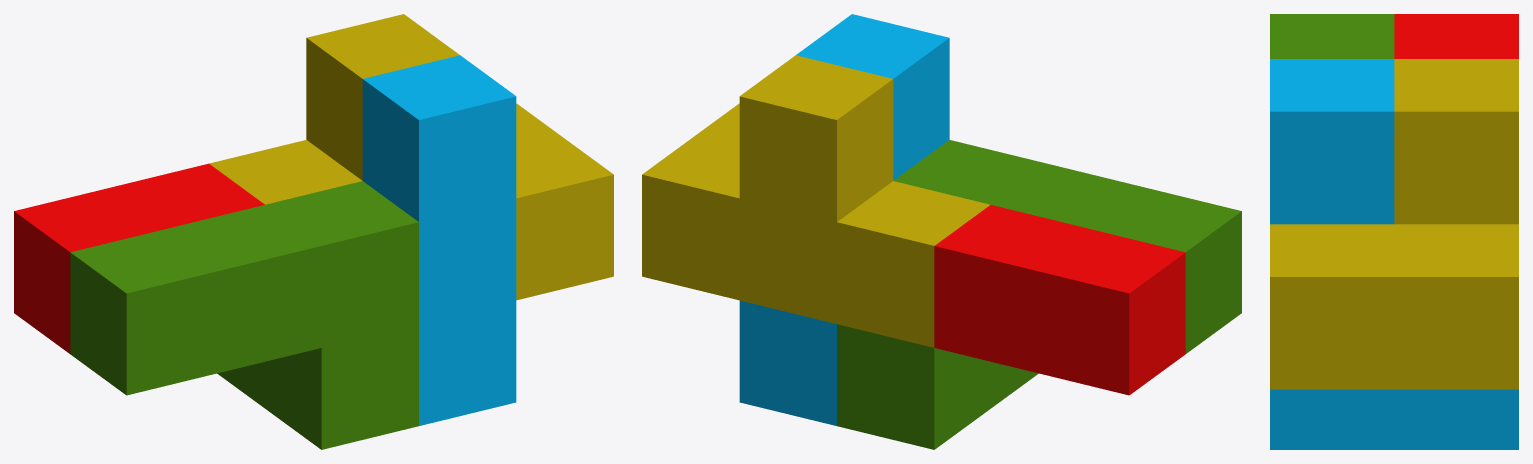
3 views of the same model, side by side, from view 1: azimuth 30°, elevation 25°; view 2: azimuth 150°, elevation 25°; view 3: azimuth 270°, elevation 25° (orthographic). The views are drawn at different scales.
Visible parts, largest first — view 1: mergedBlocks(Clone); view 2: mergedBlocks(Clone); view 3: mergedBlocks(Clone).
Part boxes in pixels (<box>): mergedBlocks(Clone): <box>14,14,613,449</box>; mergedBlocks(Clone): <box>642,14,1241,449</box>; mergedBlocks(Clone): <box>1270,14,1518,449</box>.
Size of the model in its own units: 5 by 3 by 2.
Materials: 4 (4 with a texture image).
